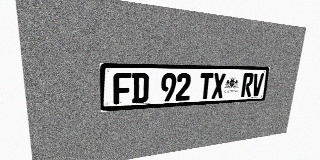2: (176, 73, 191, 101)
9: (160, 73, 177, 102)
D: (132, 73, 149, 103)
F: (113, 73, 131, 104)
R: (241, 73, 254, 97)
T: (199, 73, 213, 100)
V: (251, 73, 264, 96)
X: (211, 73, 226, 99)
